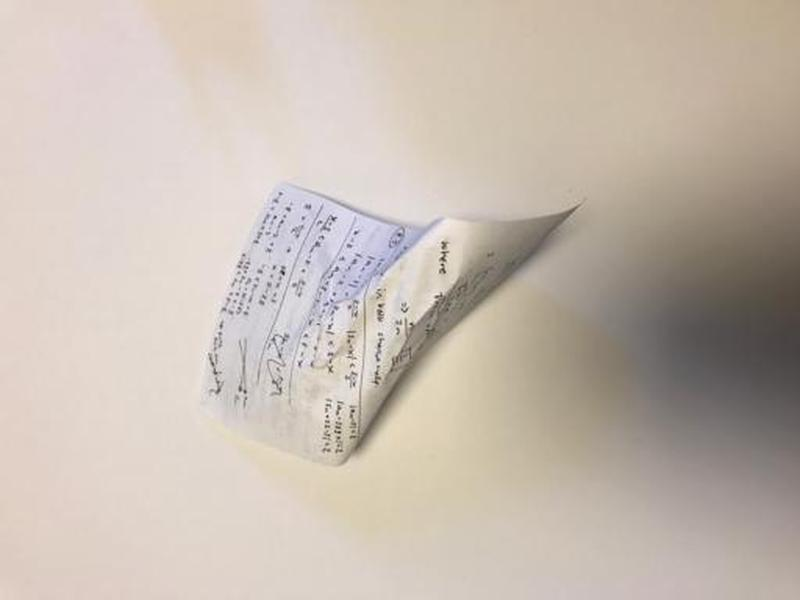paper: (199, 178, 584, 471)
